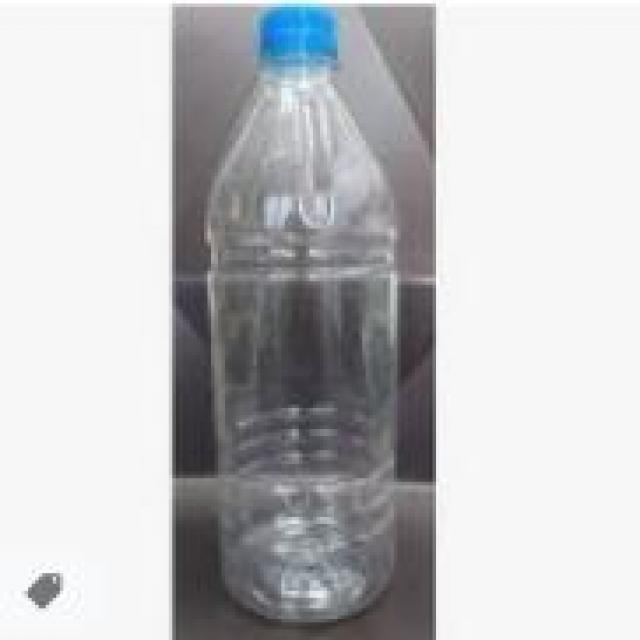bottle: (195, 15, 428, 640)
